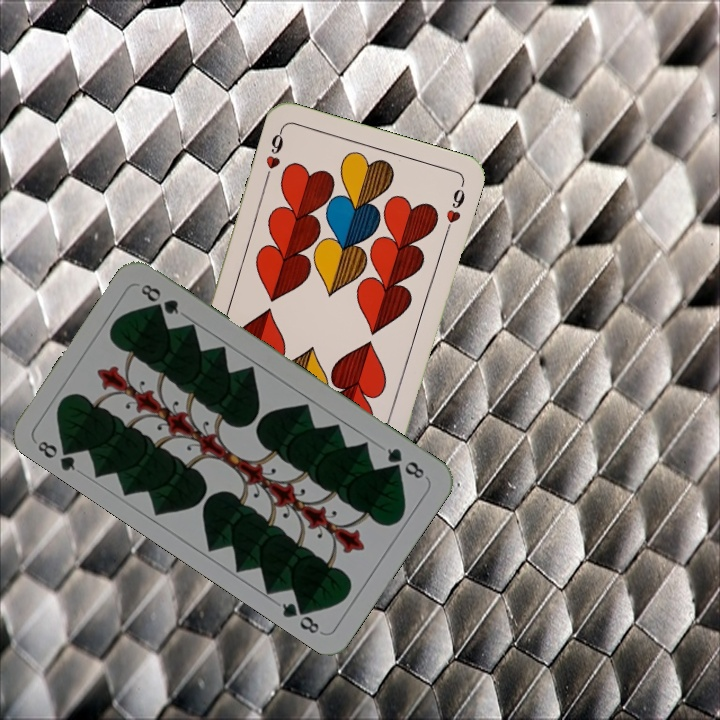G8: (33, 436, 80, 474), (383, 444, 427, 482)
H9: (261, 125, 286, 183)
